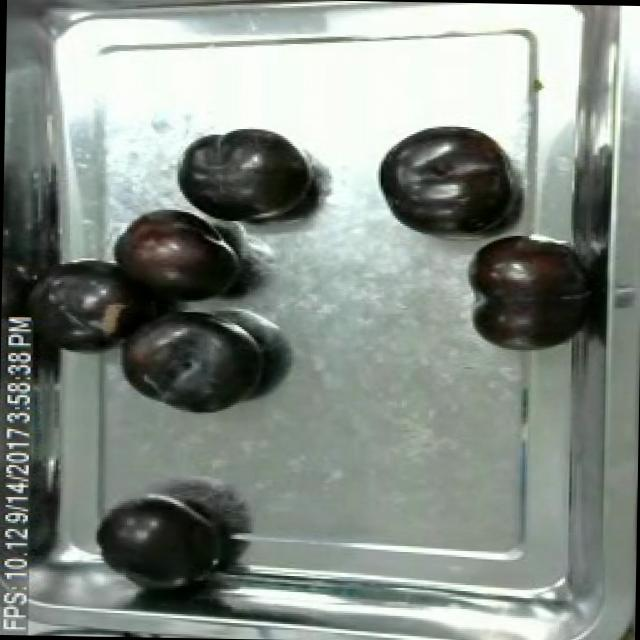Fruit: (108, 306, 278, 428), (372, 120, 520, 242), (172, 119, 324, 228), (464, 228, 590, 358), (81, 490, 216, 588), (101, 206, 232, 298)
